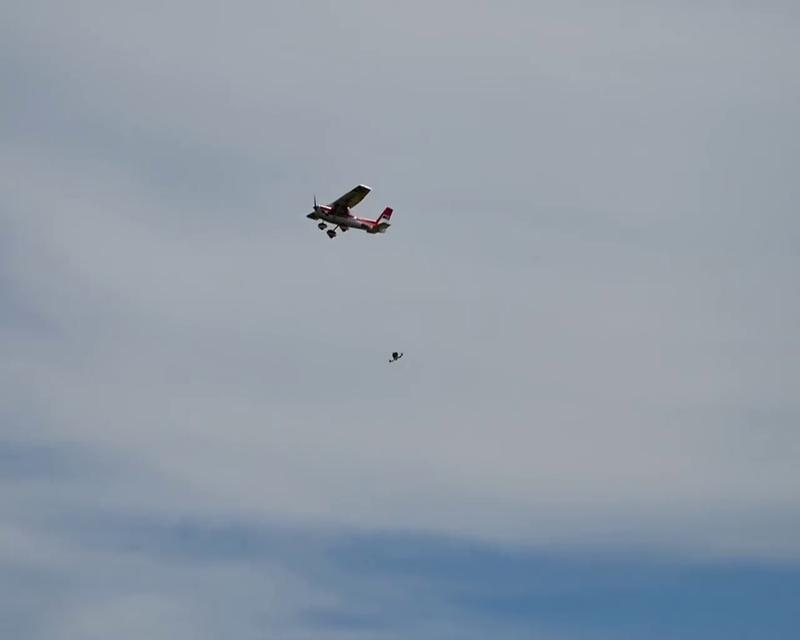UAV: (305, 184, 394, 238)
